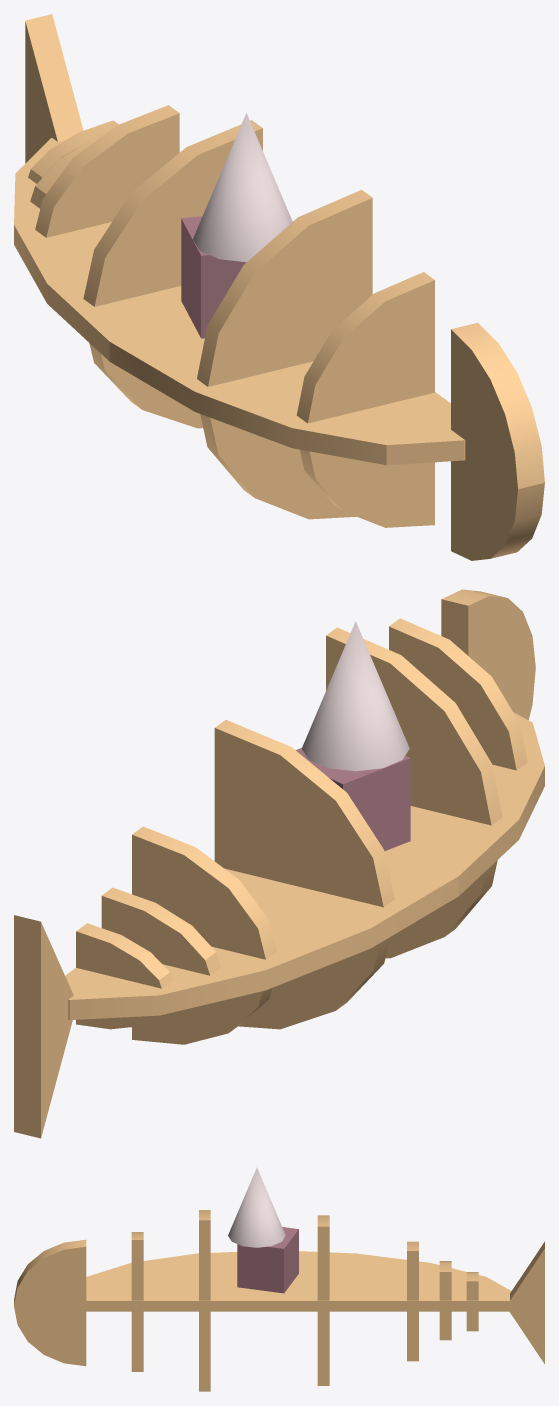
File: Furn4_bookcase_right_color1_joined.fbx
3 views of the same model, one above another, from view 1: azimuth 30°, elevation 25°; view 2: azimuth 150°, elevation 25°; view 3: azimuth 270°, elevation 25° (orthographic). The views are drawn at different scales.
Visible parts, largest first — view 1: Куб.263; view 2: Куб.263; view 3: Куб.263.
Part boxes in pixels (bbox=[...]): Куб.263: bbox=[14, 14, 544, 560]; Куб.263: bbox=[14, 589, 544, 1138]; Куб.263: bbox=[14, 1167, 544, 1391].
Size of the model in its own units: 54.56 by 103 by 242.
